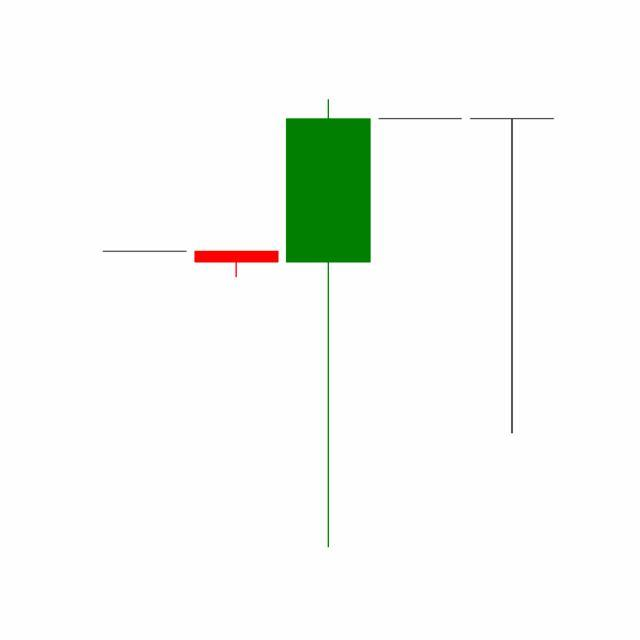Dragonfly Doji: (466, 116, 559, 438)
